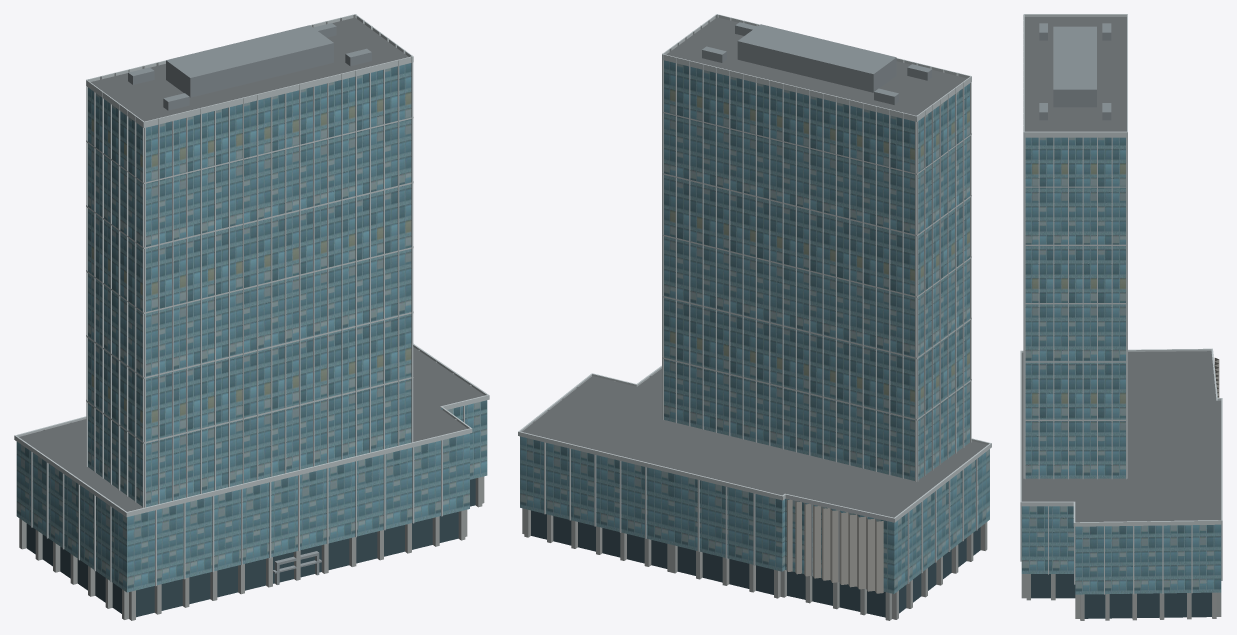
File: intercontinental_sf.glb
The picture shows the model from 3 angles, left to right: view 1: azimuth 30°, elevation 25°; view 2: azimuth 150°, elevation 25°; view 3: azimuth 270°, elevation 25°; orthographic projection. The views are drawn at different scales.
Visible parts, largest first — view 1: intercontinental_sf; view 2: intercontinental_sf; view 3: intercontinental_sf.
Boxes of the visible parts, left/top/right/bottom form: intercontinental_sf: left=14, top=14, right=489, bottom=620; intercontinental_sf: left=518, top=14, right=991, bottom=620; intercontinental_sf: left=1020, top=14, right=1222, bottom=620.
Size of the model in its own units: 84.61 by 104 by 41.59.
2 materials, 2 textured.
